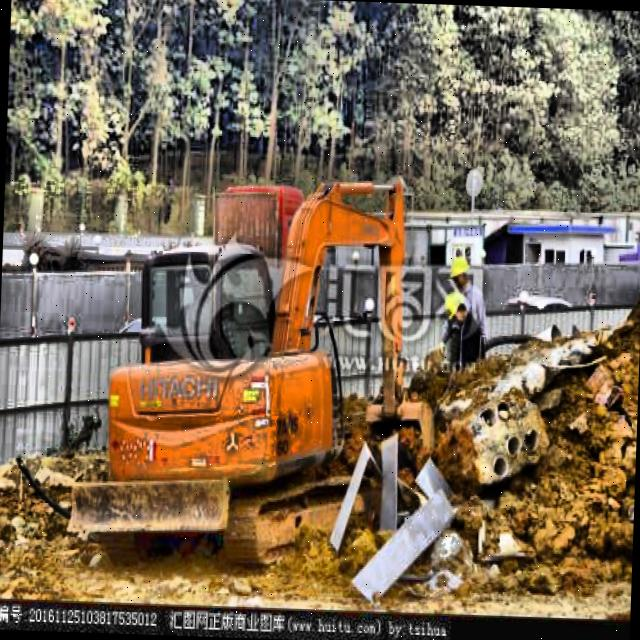helmet: (443, 292, 471, 332), (446, 246, 472, 289)
